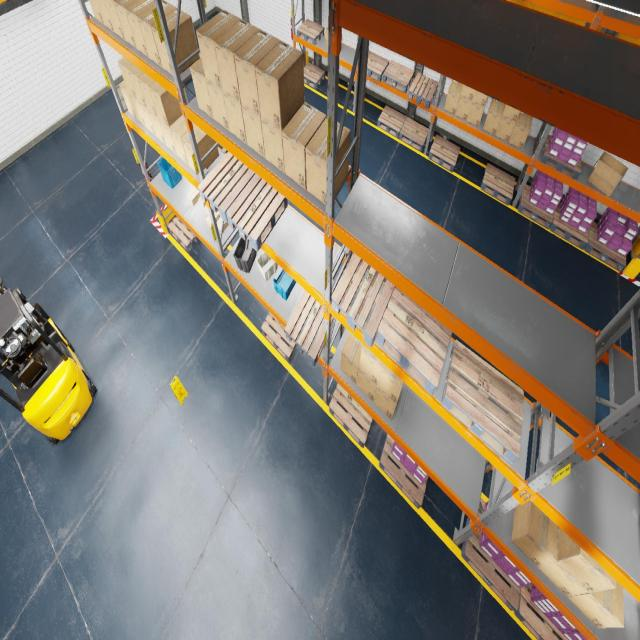box: (256, 41, 304, 131), (234, 30, 281, 116), (305, 117, 351, 204), (282, 102, 326, 189), (214, 19, 260, 102), (558, 528, 616, 592), (196, 10, 241, 90), (538, 527, 588, 596), (151, 8, 200, 76), (512, 500, 558, 567), (568, 580, 624, 628), (138, 0, 176, 67), (124, 0, 163, 57), (181, 124, 219, 174), (149, 81, 188, 127), (588, 152, 628, 196), (190, 58, 213, 119), (260, 117, 284, 173), (241, 103, 265, 158), (222, 91, 246, 144), (169, 115, 194, 165), (206, 79, 230, 131), (113, 0, 138, 49), (340, 331, 363, 384), (377, 363, 403, 404), (359, 344, 382, 385), (127, 64, 147, 109), (138, 73, 158, 117), (509, 112, 532, 150), (374, 386, 400, 419), (104, 0, 125, 40), (117, 57, 137, 99), (483, 98, 505, 136), (495, 104, 516, 142), (356, 368, 377, 402), (158, 118, 177, 154), (119, 80, 137, 118), (444, 79, 463, 115), (467, 96, 488, 127), (128, 92, 146, 128), (148, 110, 166, 145), (138, 101, 156, 136), (96, 0, 115, 33), (455, 95, 472, 121), (89, 0, 105, 25), (325, 27, 342, 50), (503, 105, 520, 122), (472, 90, 488, 107), (460, 84, 475, 101), (187, 187, 200, 206), (206, 211, 220, 228), (217, 216, 228, 232), (198, 196, 206, 209), (204, 205, 209, 215)
forklift: (0, 277, 97, 444)
pallets: (441, 340, 524, 464), (376, 286, 452, 394), (461, 498, 520, 610), (332, 253, 396, 347), (226, 174, 288, 251), (198, 152, 255, 222), (284, 290, 334, 366), (379, 434, 428, 508), (514, 584, 568, 640), (329, 383, 373, 448), (584, 222, 626, 272), (541, 134, 581, 180), (550, 202, 588, 250), (262, 312, 296, 363), (518, 184, 553, 229), (481, 163, 515, 205), (428, 134, 461, 172), (168, 216, 199, 252), (408, 73, 438, 109), (399, 116, 429, 152), (382, 60, 414, 93), (378, 106, 407, 138), (367, 50, 389, 82), (297, 19, 324, 45), (304, 62, 325, 89), (639, 488, 640, 501)
